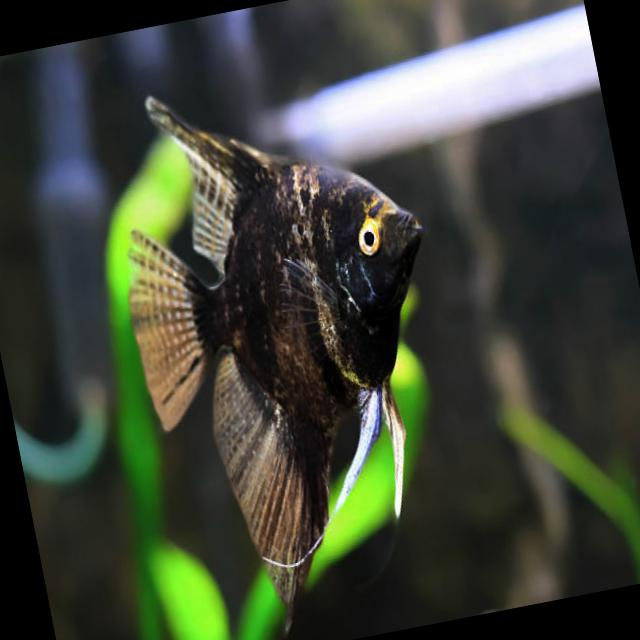AngelFish: (94, 47, 489, 640)
